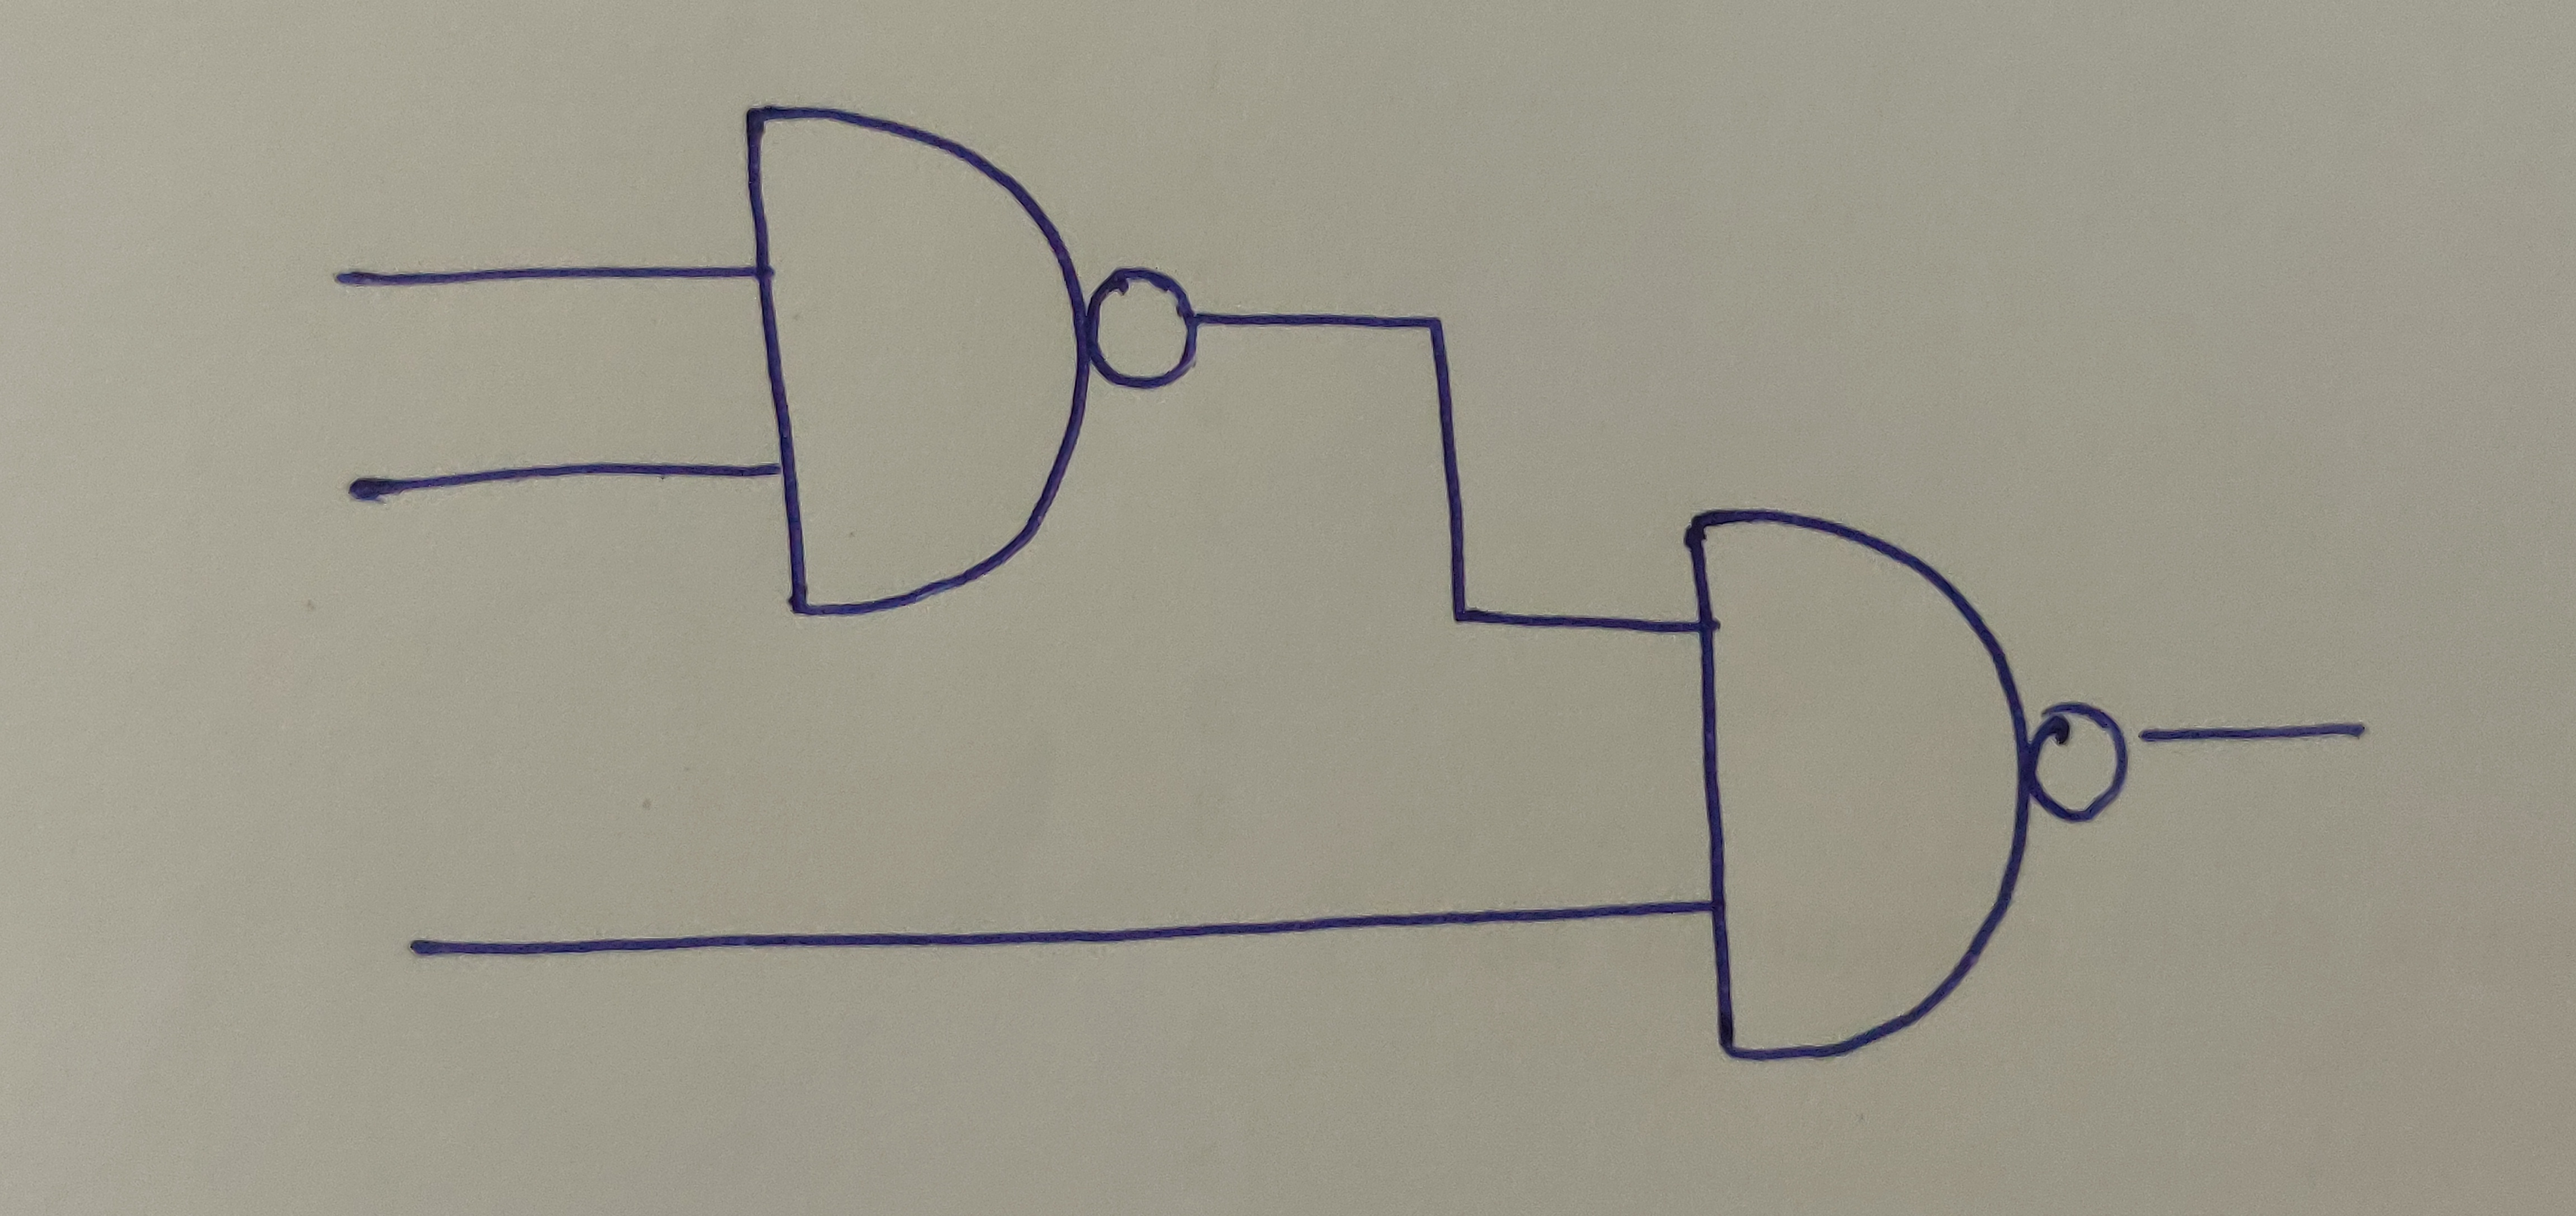and: (1681, 506, 2036, 1066), (736, 94, 1096, 623)
not: (1081, 265, 1209, 393), (2036, 700, 2141, 827)
